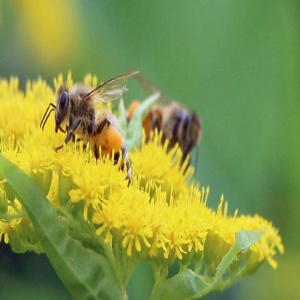bee: (44, 86, 133, 185), (133, 96, 202, 174)
